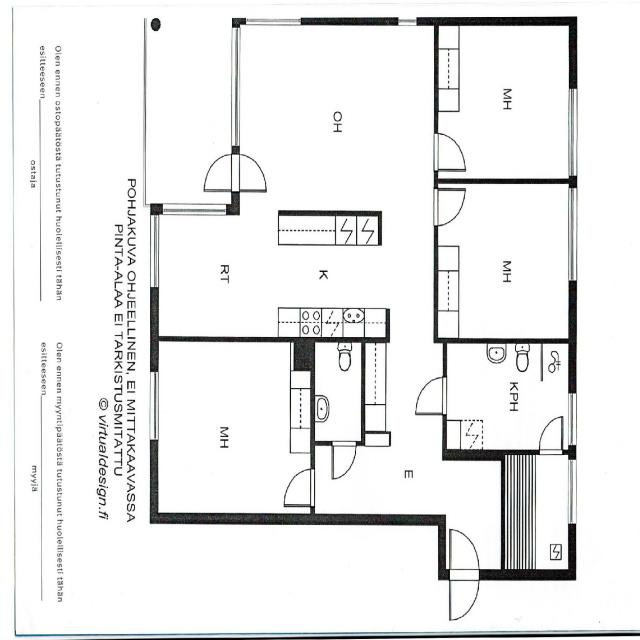door: (449, 528, 479, 580), (449, 569, 479, 621), (231, 154, 267, 191), (204, 154, 239, 191), (414, 376, 447, 415), (434, 188, 466, 226), (283, 469, 315, 507), (434, 133, 466, 170), (332, 441, 356, 480), (540, 417, 562, 455)
